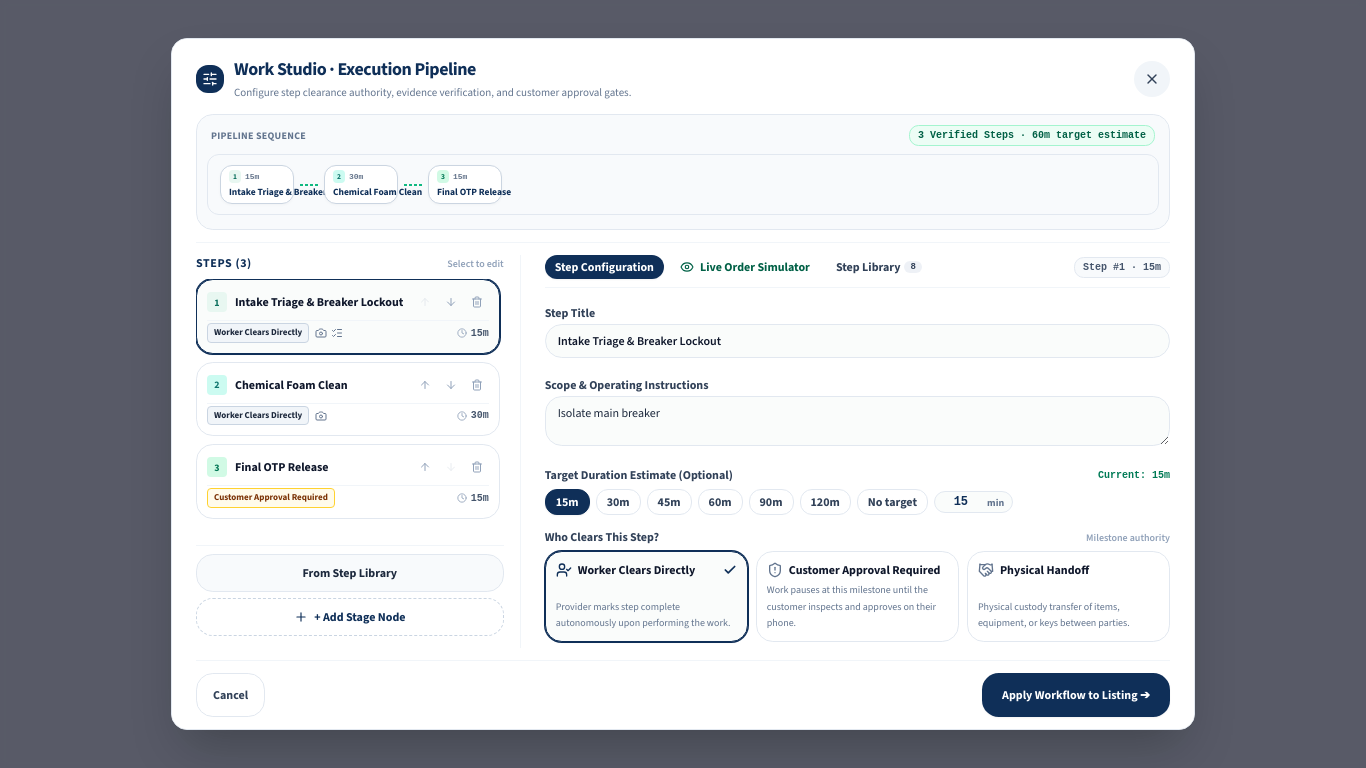
Test case: Mobile UI Kernel — Foundation Primitives › WorkNodeCustomizerModal › renders interactive Live Order Simulator with Worker and Customer views
Switch to simulator tab
Click the button "Live Order Simulator": (745, 267) [670,255,820,279]
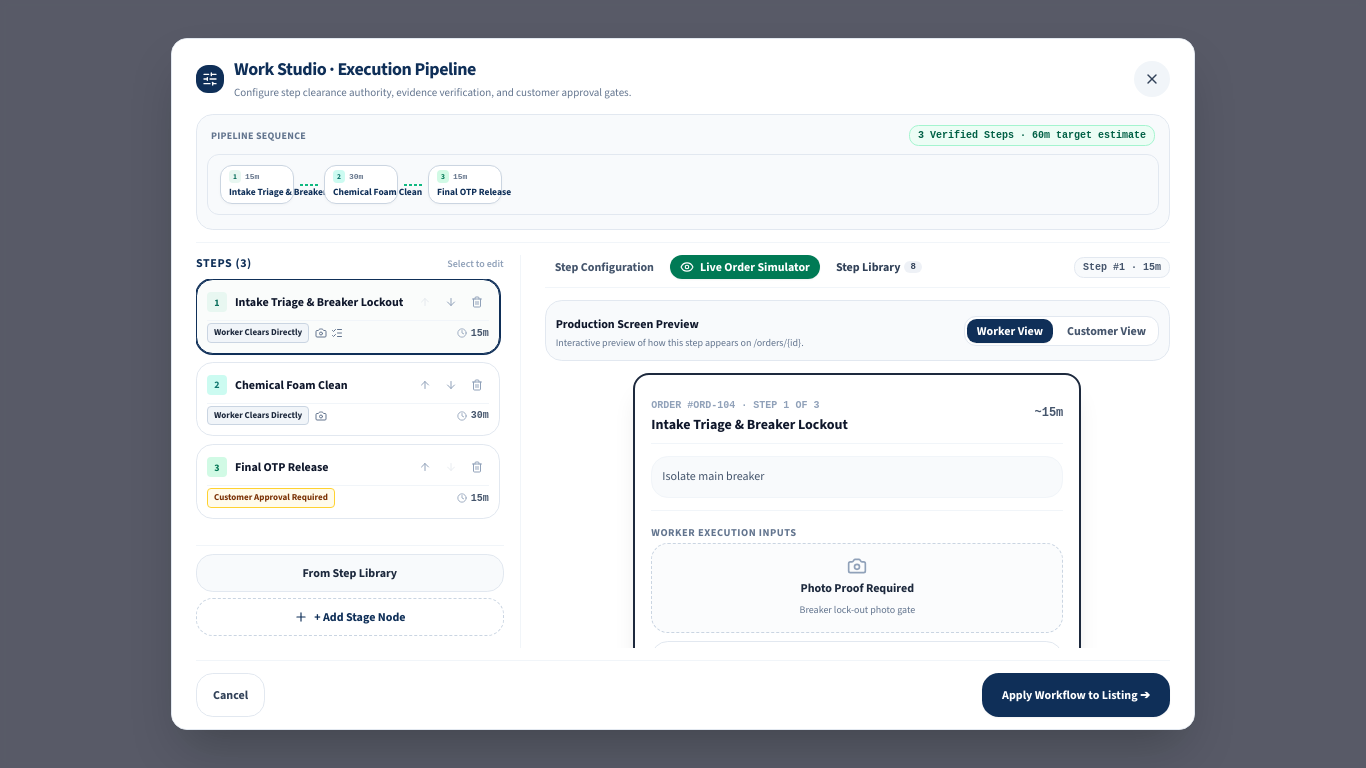
Expected: the text "Production Screen Preview" is shown, [556,316,699,332]
Expected: the text "Worker Execution Inputs" is shown, [651,525,797,539]
Expected: the text "Photo Proof Required" is shown, [800,580,914,596]
Toggle to Customer View
Click the button "Customer View": (1107, 331) [1057,319,1156,343]
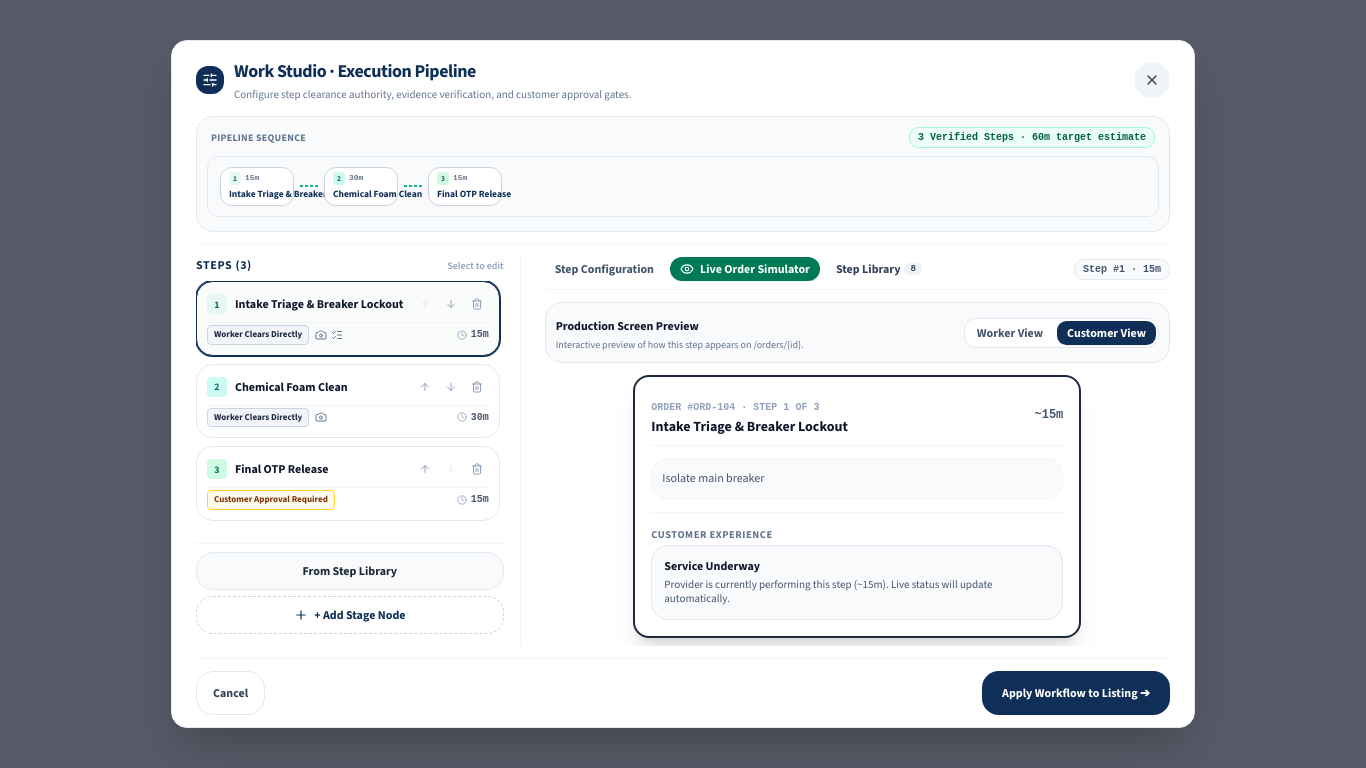
Expected: the text "Customer Experience" is shown, [651,527,773,541]
Expected: the text "Service Underway" is shown, [664,558,760,574]
